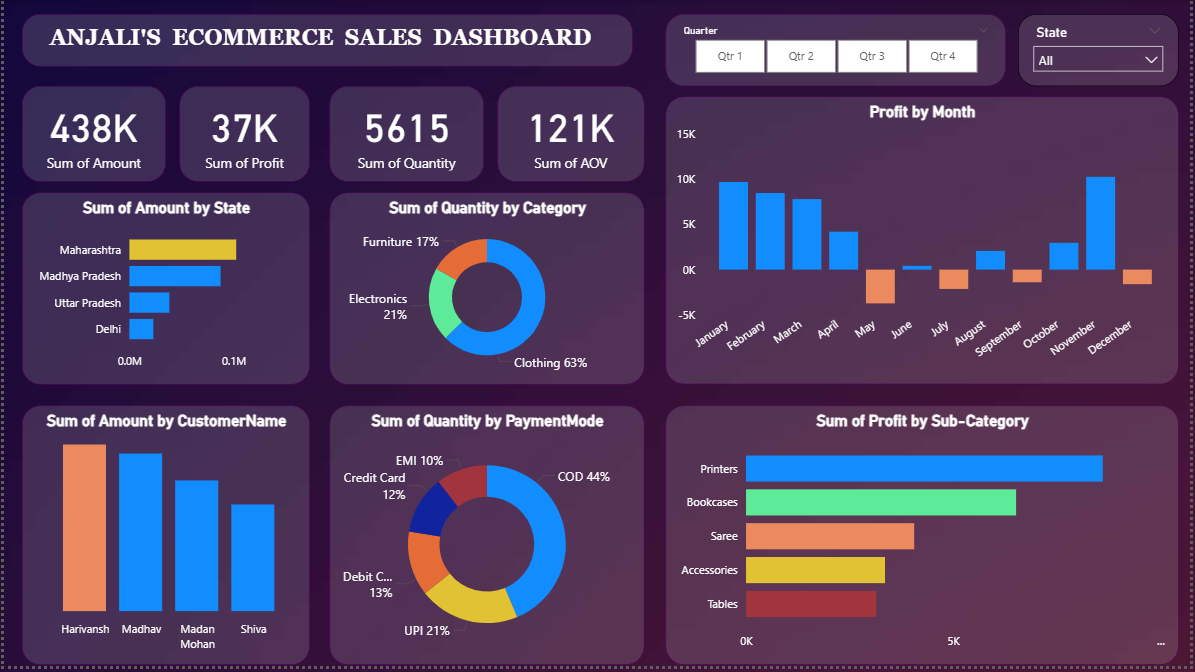

What the dashboard file says about the page in this screenshot:
{"tool":"powerbi","page":{"name":"Page 1","canvas":[1280,720],"ordinal":0},"visuals":[{"type":"textbox","box":[19.4,16.2,659,56.7],"z":0},{"type":"columnChart","title":"Profit by Month","fields":{"Category":["Orders.Order Date.Variation.Date Hierarchy.Month"],"Y":["Details.Profit"]},"box":[714.1,105.2,553.8,310.9],"z":1000},{"type":"clusteredBarChart","fields":{"Category":["Details.Sub-Category"],"Y":["Details.Profit"]},"box":[714.1,438.8,553.8,280.1],"z":2000},{"type":"donutChart","fields":{"Category":["Details.Category"],"Y":["Details.Quantity"]},"box":[351.4,208.9,340,207.3],"z":3000},{"type":"donutChart","fields":{"Y":["Details.Quantity"],"Category":["Details.PaymentMode"]},"box":[351.4,438.8,340,280.1],"z":4000},{"type":"card","fields":{"Values":["Details.Amount"]},"box":[19.4,93.9,155.4,103.6],"z":5000},{"type":"card","fields":{"Values":["Details.Profit"]},"box":[189.4,93.9,140.9,103.6],"z":6000},{"type":"card","fields":{"Values":["Details.Quantity"]},"box":[351.4,93.9,166.8,103.6],"z":7000},{"type":"card","fields":{"Values":["Details.AOV"]},"box":[532.7,93.9,158.7,103.6],"z":8000},{"type":"clusteredBarChart","fields":{"Category":["Orders.State"],"Y":["Details.Amount"]},"box":[19.4,208.9,310.9,207.3],"z":9000},{"type":"columnChart","fields":{"Category":["Orders.CustomerName"],"Y":["Details.Amount"]},"box":[19.4,438.8,310.9,280.1],"z":10000},{"type":"slicer","fields":{"Values":["Orders.Order Date.Variation.Date Hierarchy.Quarter"]},"box":[714.1,16.2,367.6,77.7],"z":11000},{"type":"slicer","fields":{"Values":["Orders.State"]},"box":[1094.6,16.2,173.3,77.7],"z":12000}]}

Visuals, with their boxes in screenshot pixels (x1, y1, x2, y2), scaled from the page's 1280x720 canvas onto the 1195x672 screenshot:
textbox: locate(18, 15, 633, 68)
"Profit by Month" columnChart: locate(667, 98, 1184, 388)
clusteredBarChart - Details.Sub-Category x Details.Profit: locate(667, 410, 1184, 671)
donutChart - Details.Category x Details.Quantity: locate(328, 195, 645, 388)
donutChart - Details.Quantity x Details.PaymentMode: locate(328, 410, 645, 671)
card - Details.Amount: locate(18, 88, 163, 184)
card - Details.Profit: locate(177, 88, 308, 184)
card - Details.Quantity: locate(328, 88, 484, 184)
card - Details.AOV: locate(497, 88, 645, 184)
clusteredBarChart - Orders.State x Details.Amount: locate(18, 195, 308, 388)
columnChart - Orders.CustomerName x Details.Amount: locate(18, 410, 308, 671)
slicer - Orders.Order Date.Variation.Date Hierarchy.Quarter: locate(667, 15, 1010, 88)
slicer - Orders.State: locate(1022, 15, 1184, 88)
